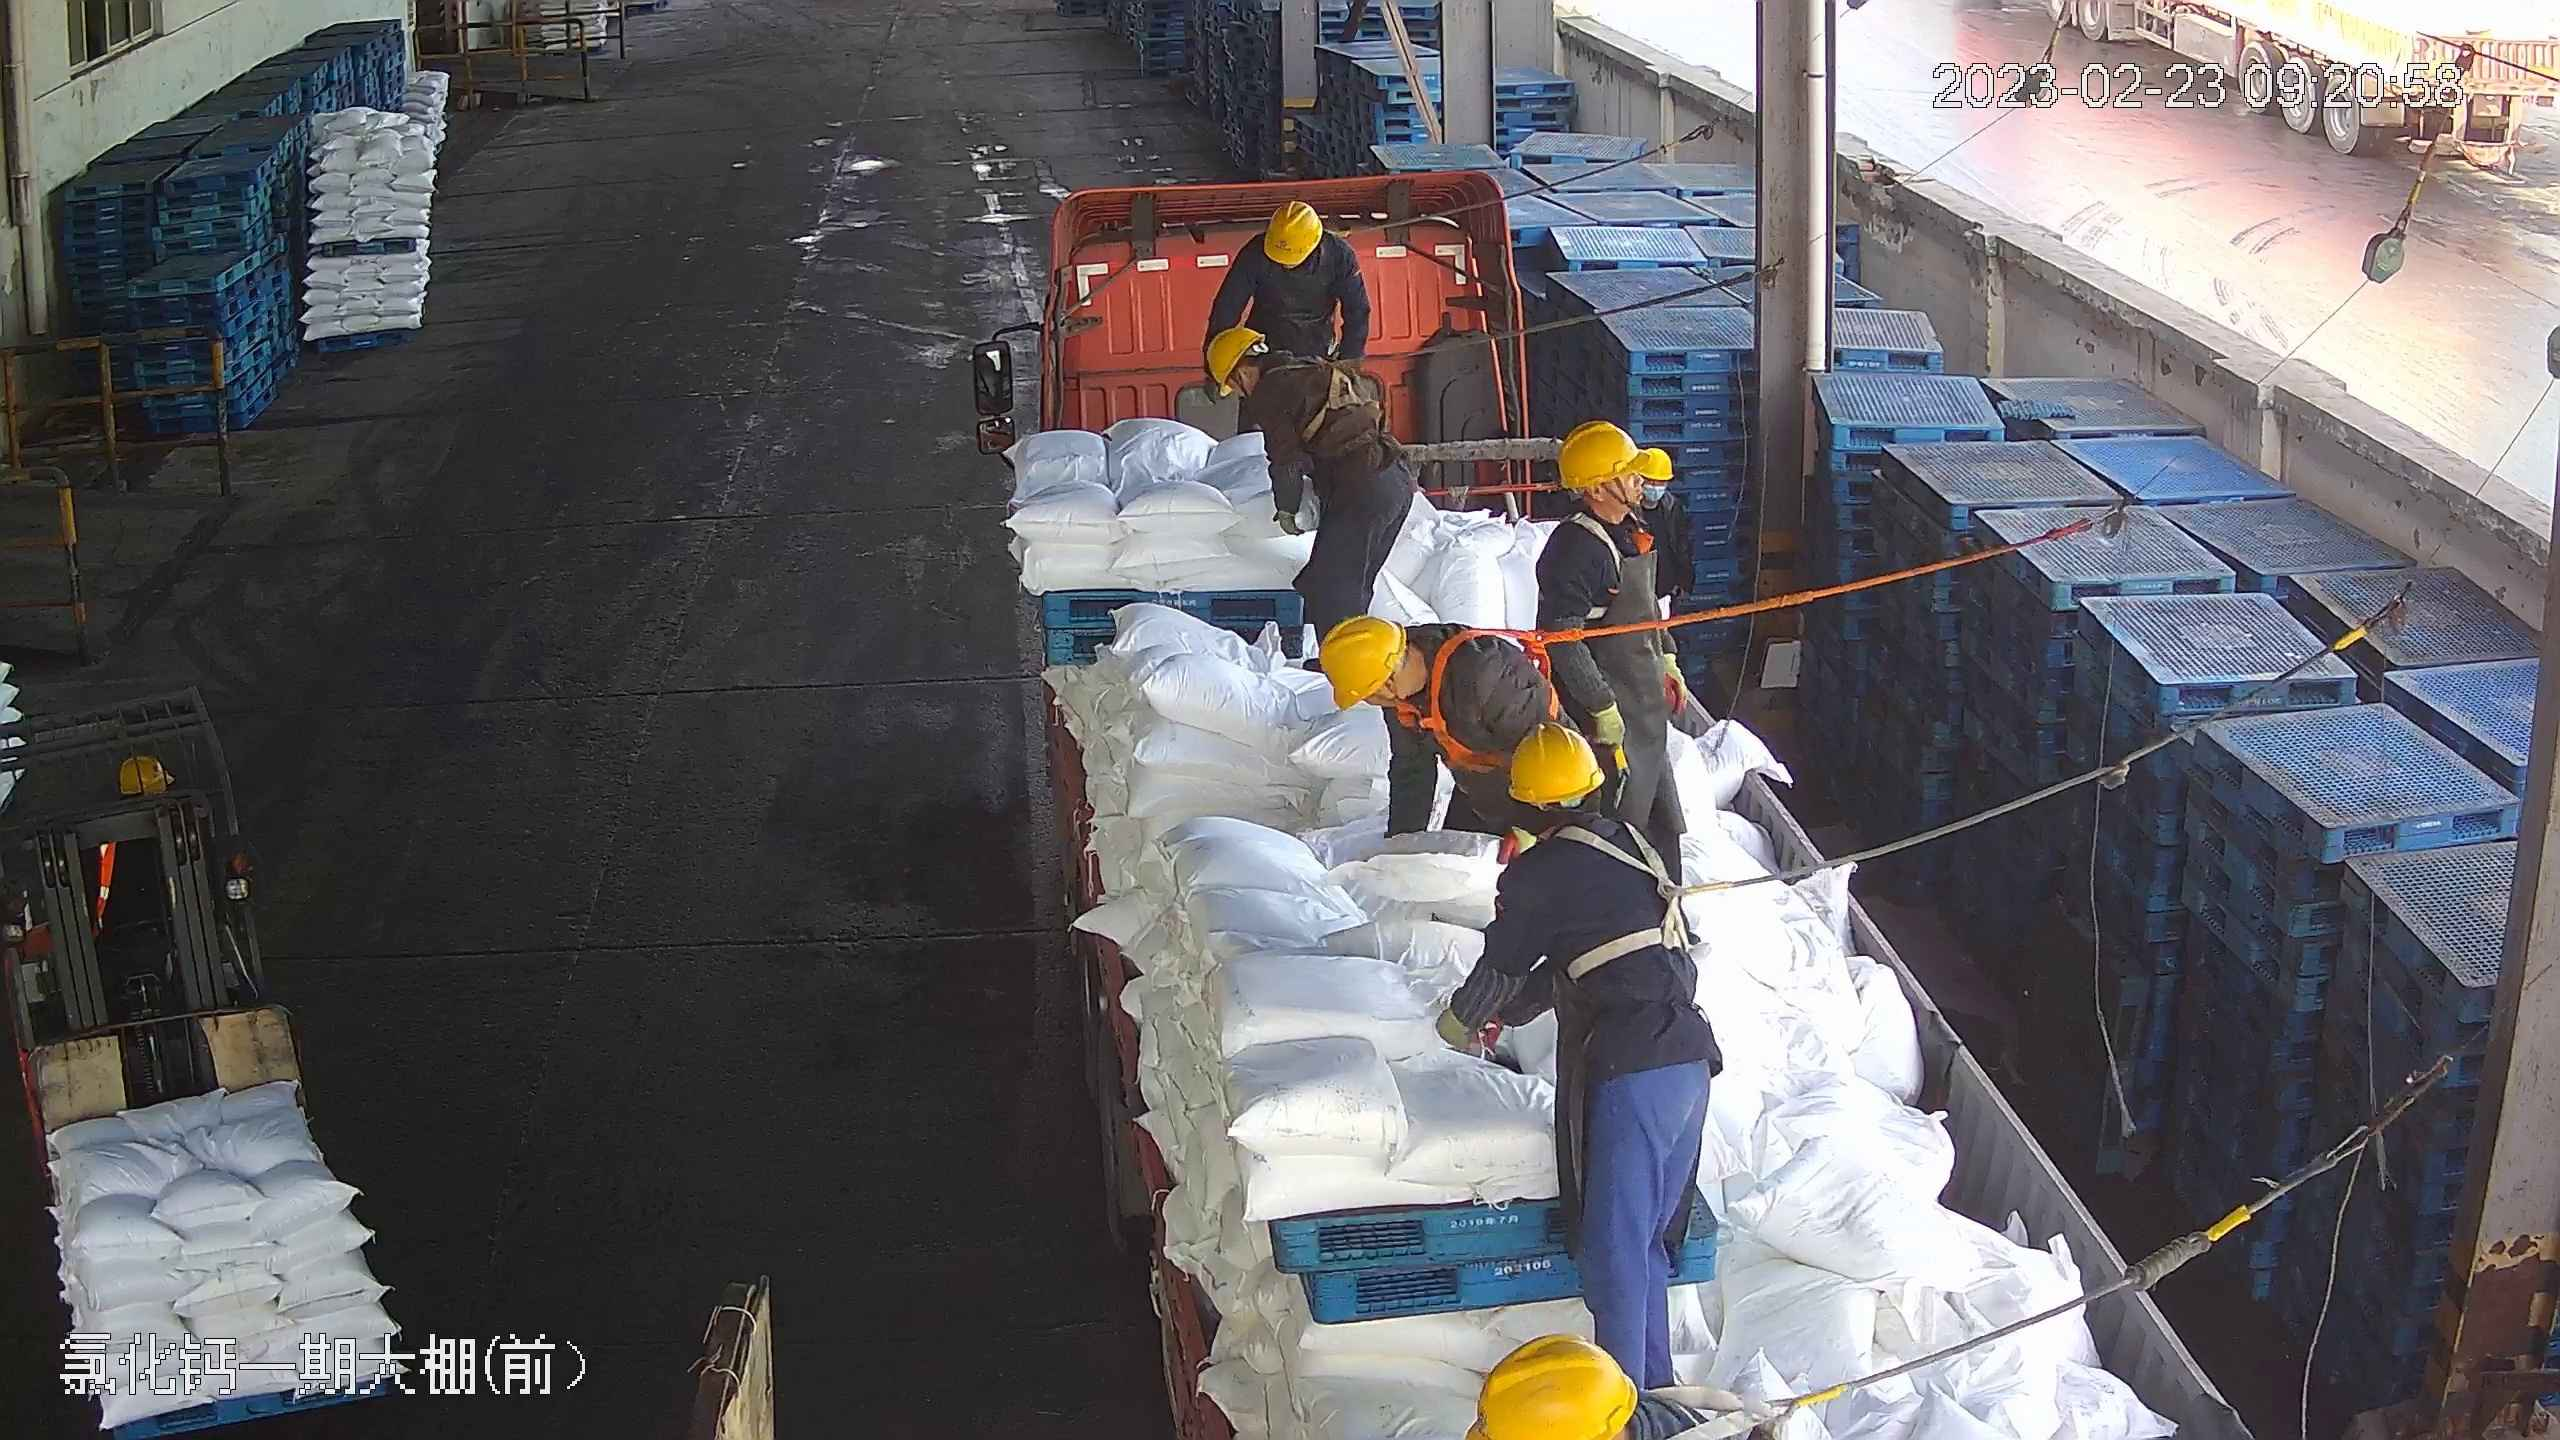belt: (1544, 816, 1700, 997), (1411, 610, 1576, 780), (1660, 1368, 1834, 1439), (1276, 342, 1377, 439), (1566, 507, 1625, 620), (1315, 216, 1377, 245)
head: (1491, 728, 1680, 888), (1536, 422, 1678, 581), (1319, 610, 1490, 741), (1217, 193, 1362, 305), (1208, 324, 1351, 417)
helmet: (1472, 1331, 1633, 1438), (1314, 610, 1410, 702), (1504, 723, 1604, 801), (1551, 418, 1641, 487), (1202, 322, 1270, 392), (1261, 195, 1326, 266), (1613, 431, 1680, 489)
people: (1471, 729, 1724, 1382), (1534, 420, 1700, 878), (1205, 324, 1416, 645)
truck: (979, 173, 2267, 1430)
